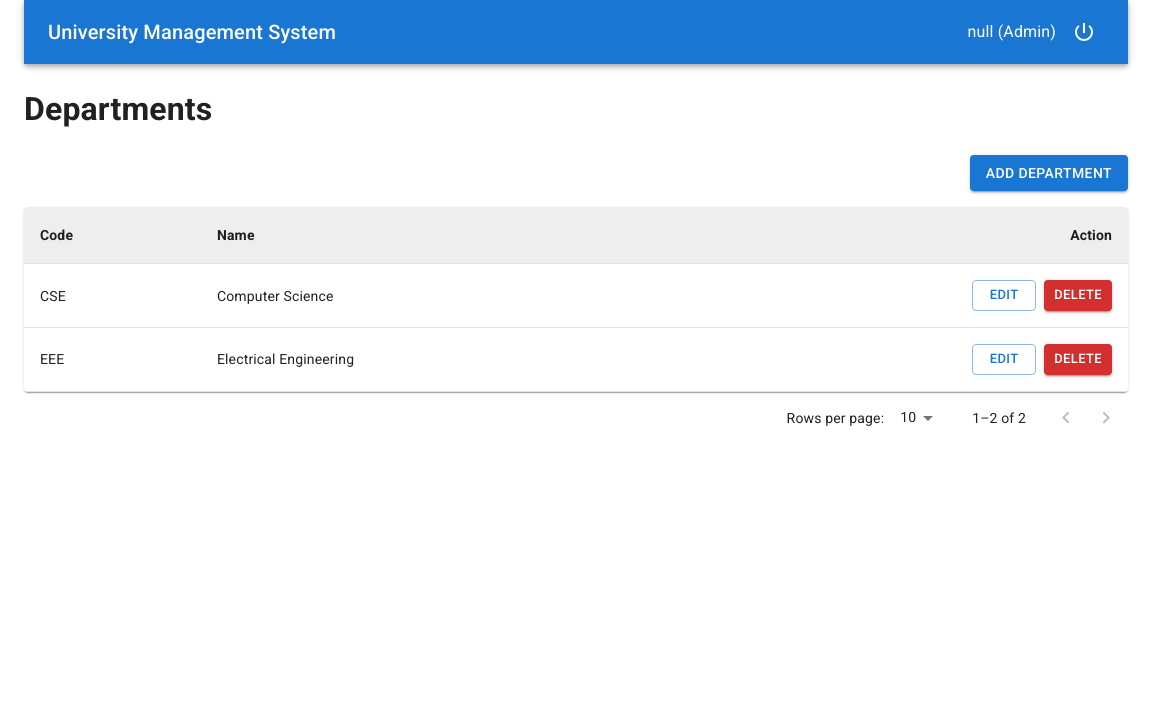
DepartmentPage › opens the confirmation dialog when Delete is clicked
expect the text "Computer Science" is shown: met, box [201, 264, 661, 328]
Click the button "Delete" in the row of "CSE": (1078, 296) [1044, 280, 1112, 311]
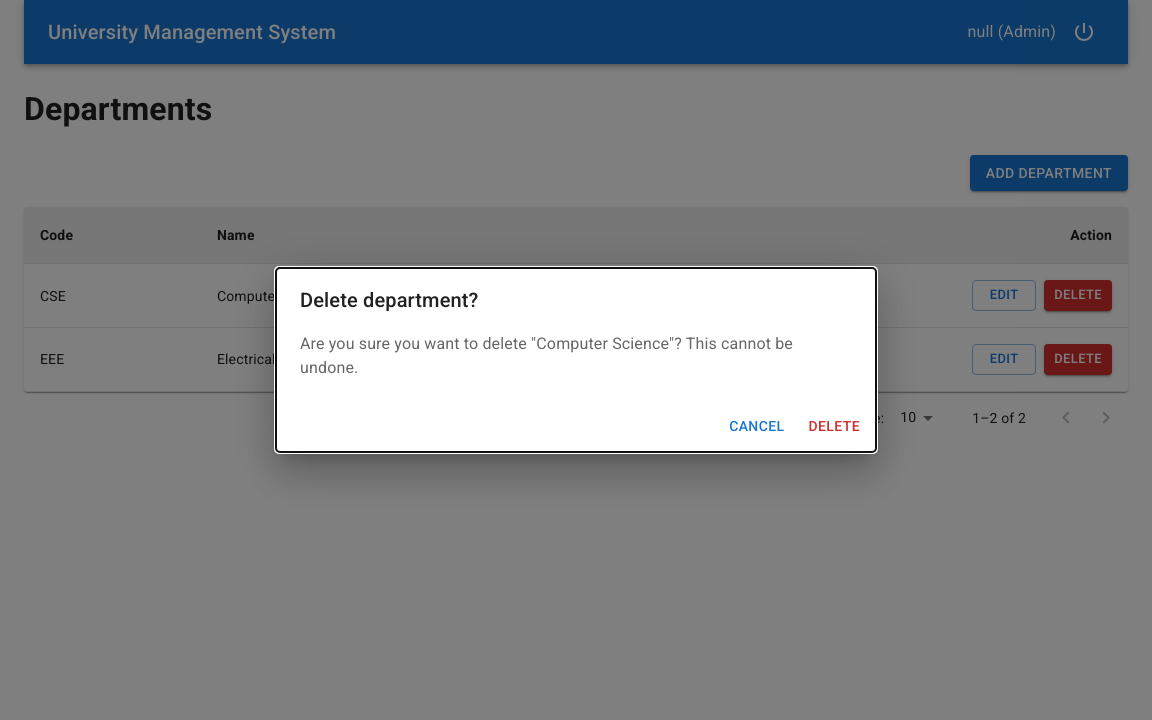
expect the heading "Delete department?" is shown: met, box [300, 288, 478, 312]
expect the text "Computer Science" is shown: met, box [536, 334, 669, 353]
